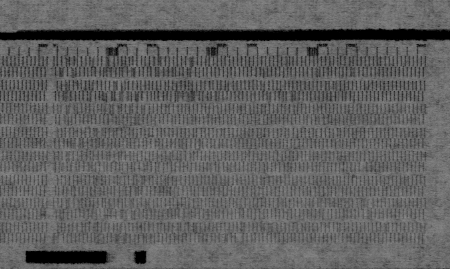Broken hole: (233, 232, 247, 245), (358, 159, 369, 172)
Oblique printing: (52, 125, 192, 244), (52, 55, 231, 125), (351, 196, 375, 221), (268, 90, 300, 104), (324, 78, 342, 102), (260, 173, 273, 188), (336, 220, 348, 234), (379, 219, 391, 233)
